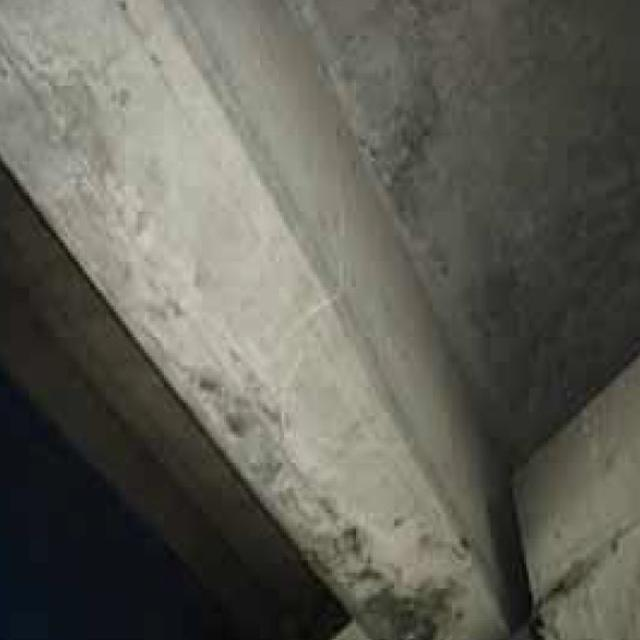freelime: (201, 377, 463, 599)
